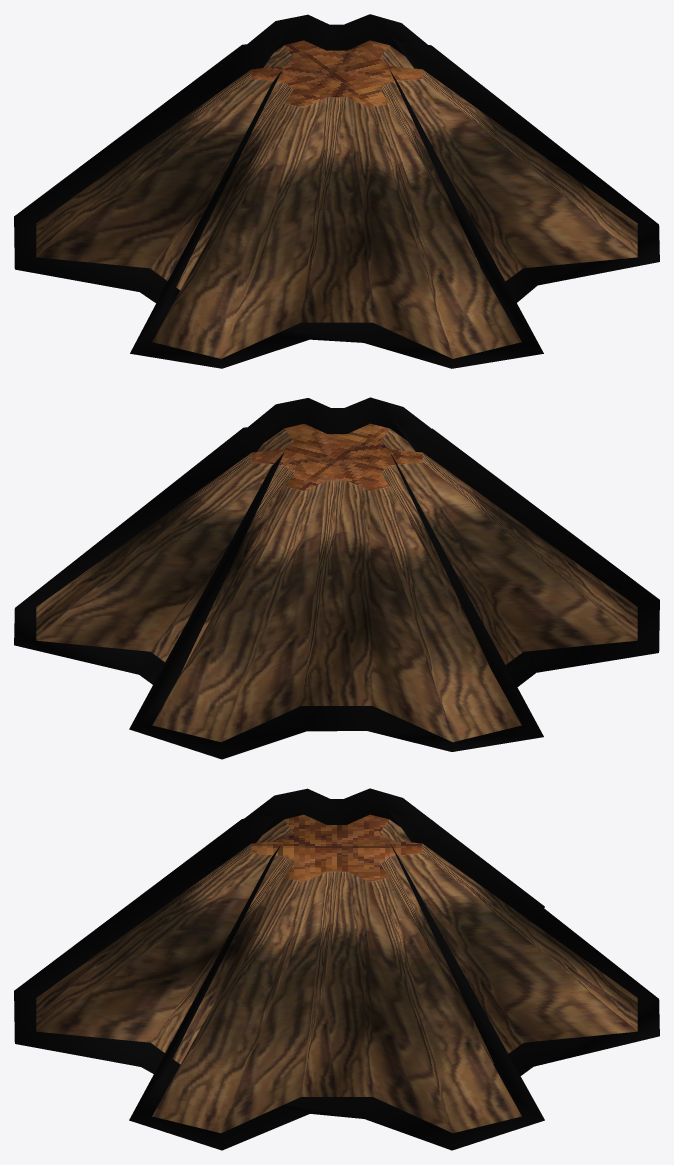
File: INST_SWORDLIGHT_GEARPICKUP.fbx
3 renders of one model, top to bottom at view 1: azimuth 30°, elevation 25°; view 2: azimuth 150°, elevation 25°; view 3: azimuth 270°, elevation 25°, orthographic.
Parts seen in each view (by area): view 1: INST_SWORDLIGHT_GEARPICKUP; view 2: INST_SWORDLIGHT_GEARPICKUP; view 3: INST_SWORDLIGHT_GEARPICKUP.
Part boxes in pixels (x1,y1,x2,y2): INST_SWORDLIGHT_GEARPICKUP: [14, 14, 659, 368]; INST_SWORDLIGHT_GEARPICKUP: [14, 397, 659, 759]; INST_SWORDLIGHT_GEARPICKUP: [14, 788, 659, 1150].
Bounding box in the file's own units: 7685 × 2886 × 8122.
Materials: 2 (2 with a texture image).
